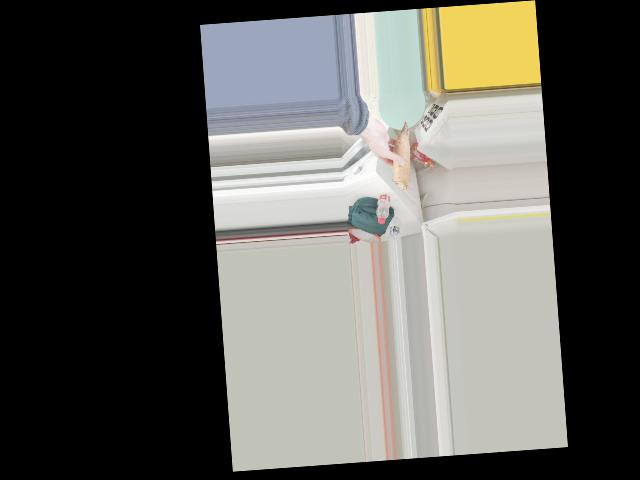sweet_potato: (389, 122, 412, 186)
